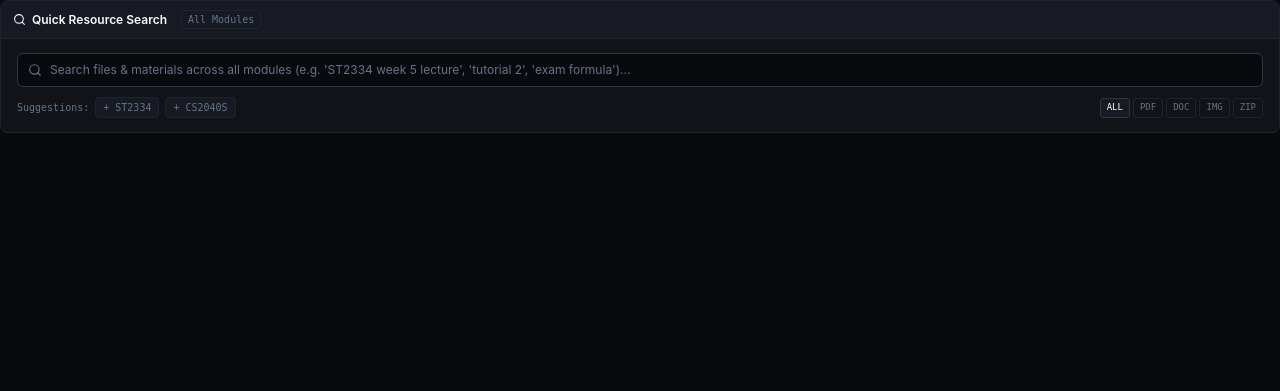
CanvasSearchSection › finds the exact lecture file when searching 'ST2334 week 5 lecture'
The width and height of the screenshot is (1280, 391).
Step 1. Replace the text in the field with placeholder "Search files & materials across all modules" with "ST2334 week 5 lecture" → (651, 70), box x1=50 y1=61 x2=1252 y2=79
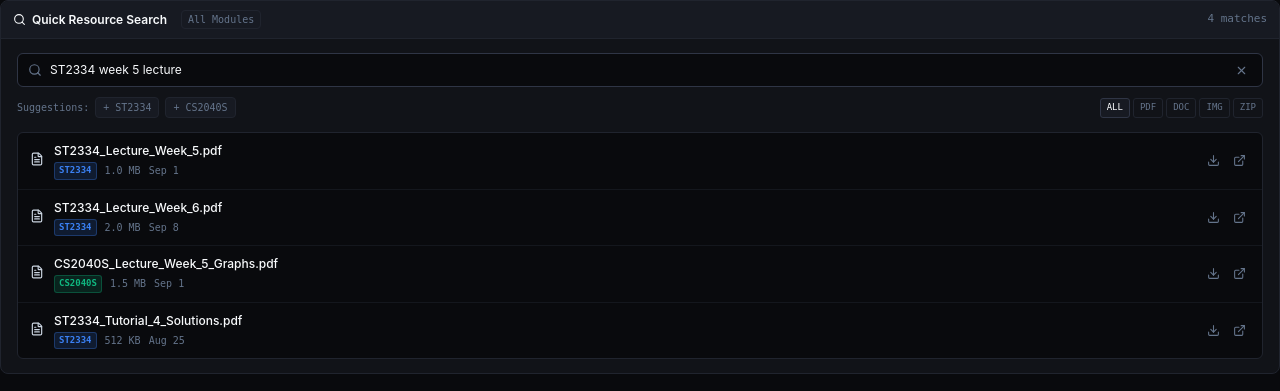
Result: the text "ST2334_Lecture_Week_5.pdf" is shown at x1=54 y1=143 x2=222 y2=158
Result: the text "4 matches" is shown at x1=1207 y1=11 x2=1267 y2=28
